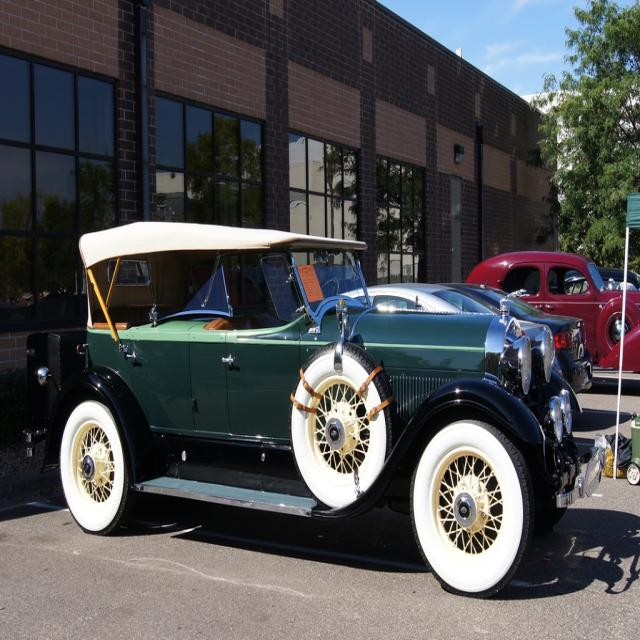car: (27, 215, 614, 604)
